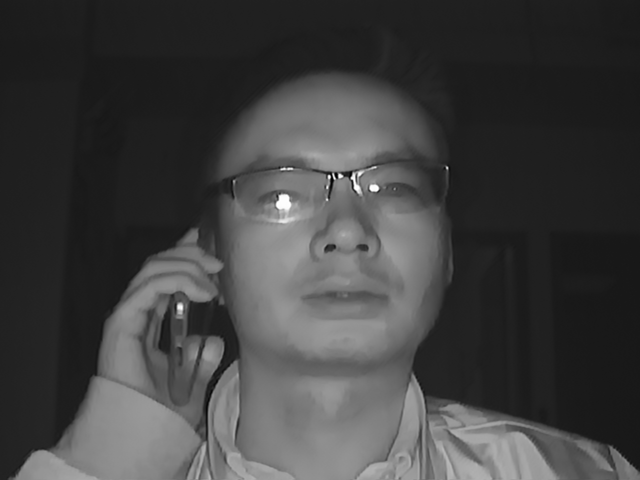hand: (88, 243, 230, 416)
